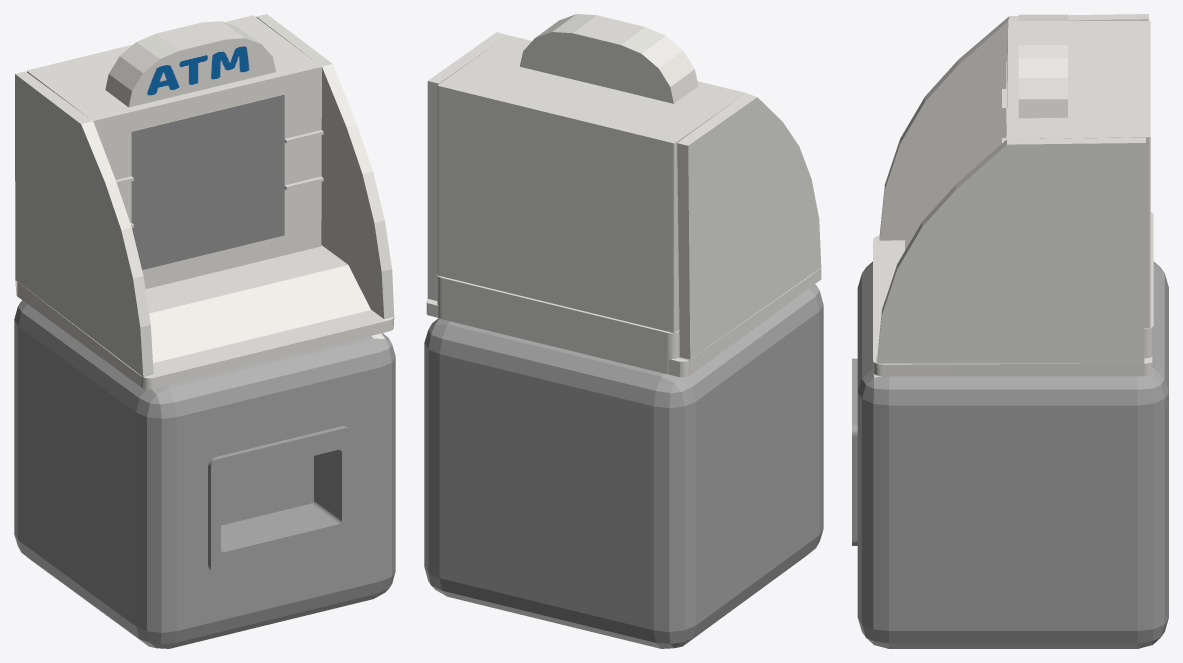
The model's file is atm.fbx.
The picture shows the model from 3 angles, left to right: view 1: azimuth 30°, elevation 25°; view 2: azimuth 150°, elevation 25°; view 3: azimuth 270°, elevation 25°; orthographic projection. The views are drawn at different scales.
Parts seen in each view (by area): view 1: atm; view 2: atm; view 3: atm.
Part boxes in pixels (left/top/right/bottom): atm: left=14, top=14, right=395, bottom=648; atm: left=424, top=14, right=823, bottom=648; atm: left=852, top=14, right=1168, bottom=648.
Bounding box in the file's own units: 200 × 398 × 204.
3 materials, 1 textured.
